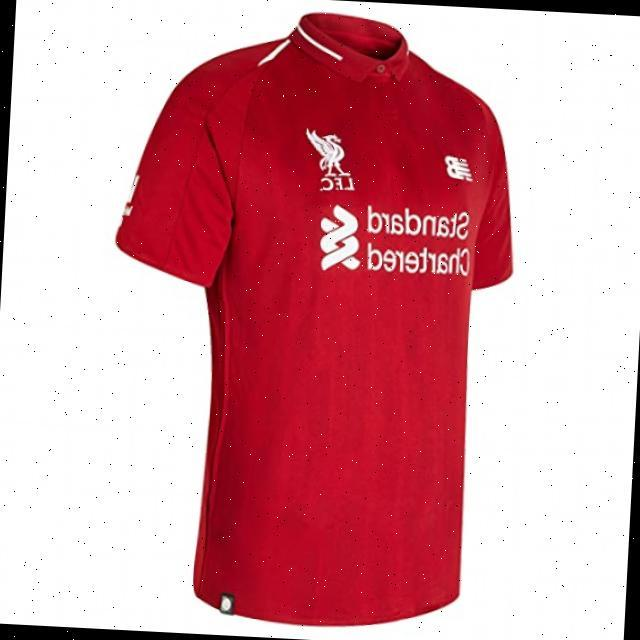Standard Chartered: (317, 205, 474, 275)
